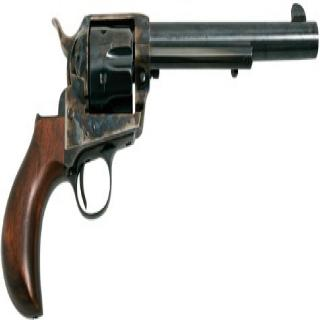gun: (1, 2, 318, 312)
